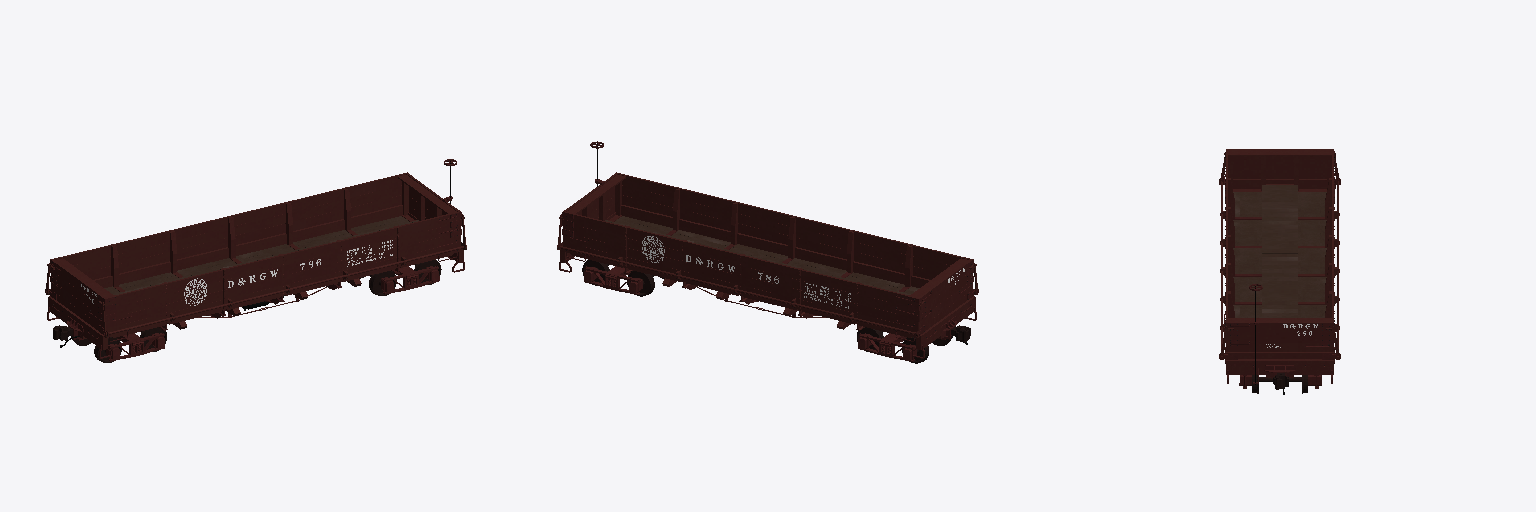
3 renders of one model, left to right at view 1: azimuth 30°, elevation 25°; view 2: azimuth 150°, elevation 25°; view 3: azimuth 270°, elevation 25°, orthographic.
Parts seen in each view (by area): view 1: SHELL_Cube.157, Doors_Cube.055, FRAME_Cube.041, Cylinder.003_Cylinder.000, BOGEY_REAR_Cube.048, BOGEY_FRONT_Cube.003, Cube.077_Cube.050, Cube.000_Cube.001; view 2: SHELL_Cube.157, Doors_Cube.055, FRAME_Cube.041, Cylinder.003_Cylinder.000, BOGEY_FRONT_Cube.003, BOGEY_REAR_Cube.048, Cube.077_Cube.050, Cube.000_Cube.001; view 3: SHELL_Cube.157, Doors_Cube.055, Cube.028_Cube.066, FRAME_Cube.041, Cylinder.003_Cylinder.000, Cube.077_Cube.050.
Part boxes in pixels (bbox=[...]): SHELL_Cube.157: bbox=[51, 173, 460, 337]; Doors_Cube.055: bbox=[104, 216, 452, 337]; FRAME_Cube.041: bbox=[48, 212, 463, 349]; Cylinder.003_Cylinder.000: bbox=[45, 214, 466, 337]; BOGEY_REAR_Cube.048: bbox=[381, 266, 439, 294]; BOGEY_FRONT_Cube.003: bbox=[106, 333, 164, 361]; Cube.077_Cube.050: bbox=[49, 172, 464, 336]; Cube.000_Cube.001: bbox=[81, 240, 392, 305]; SHELL_Cube.157: bbox=[563, 173, 972, 337]; Doors_Cube.055: bbox=[571, 216, 919, 337]; FRAME_Cube.041: bbox=[560, 212, 975, 349]; Cylinder.003_Cylinder.000: bbox=[557, 214, 978, 337]; BOGEY_FRONT_Cube.003: bbox=[858, 333, 916, 361]; BOGEY_REAR_Cube.048: bbox=[584, 266, 642, 294]; Cube.077_Cube.050: bbox=[559, 172, 974, 336]; Cube.000_Cube.001: bbox=[642, 236, 964, 308]; SHELL_Cube.157: bbox=[1226, 149, 1334, 358]; Doors_Cube.055: bbox=[1233, 192, 1326, 317]; Cube.028_Cube.066: bbox=[1262, 185, 1297, 317]; FRAME_Cube.041: bbox=[1226, 187, 1333, 377]; Cylinder.003_Cylinder.000: bbox=[1219, 152, 1340, 359]; Cube.077_Cube.050: bbox=[1219, 154, 1340, 359].
Bounding box in the file's own units: 27.44 × 7.68 × 7.26.
4 materials, 3 textured.